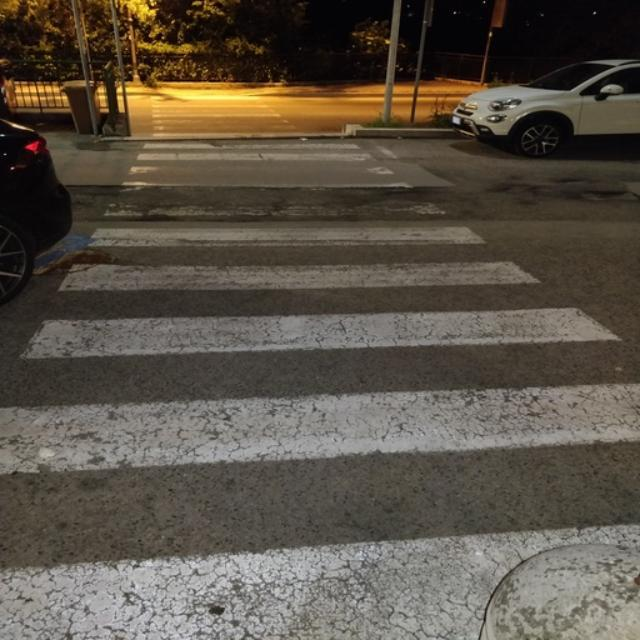sidewalk: (0, 86, 640, 640)
